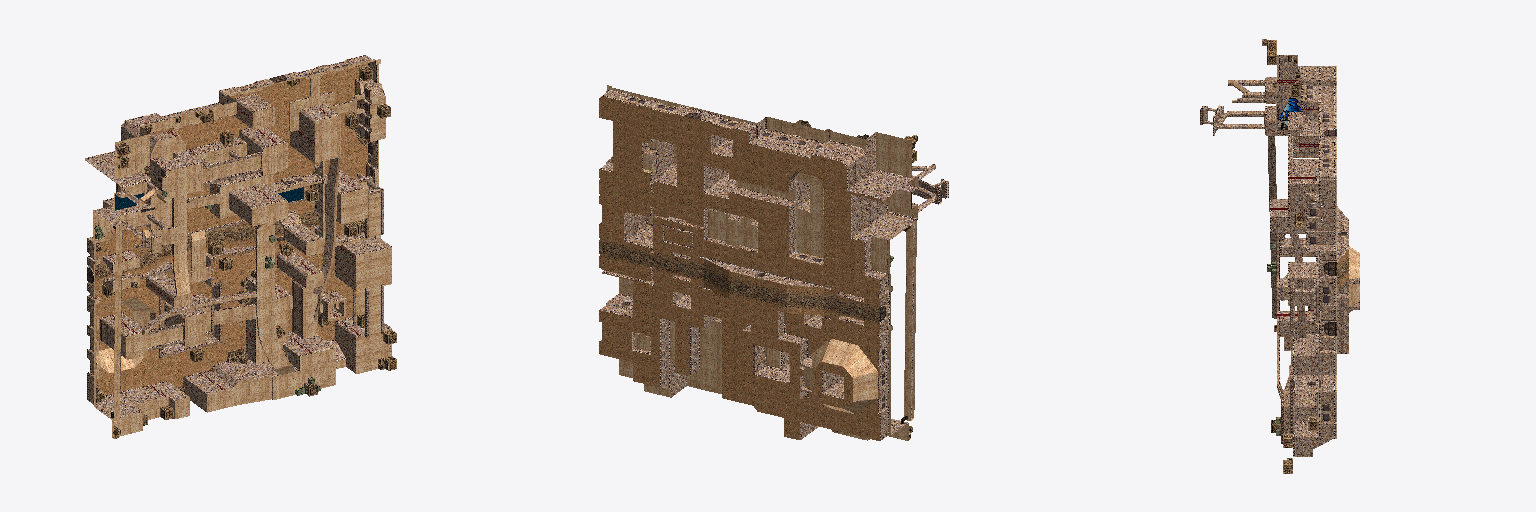
3 views of the same model, side by side, from view 1: azimuth 30°, elevation 25°; view 2: azimuth 150°, elevation 25°; view 3: azimuth 270°, elevation 25° (orthographic).
Visible parts, largest first — view 1: BSP_Object.model_0; view 2: BSP_Object.model_0; view 3: BSP_Object.model_0.
Part boxes in pixels (x1,y1,x2,y2): BSP_Object.model_0: (85,55,391,436); BSP_Object.model_0: (599,85,917,440); BSP_Object.model_0: (1265,55,1359,456).
Bounding box in the file's own units: 4096 × 4096 × 1984.
Materials: 26 (26 with a texture image).